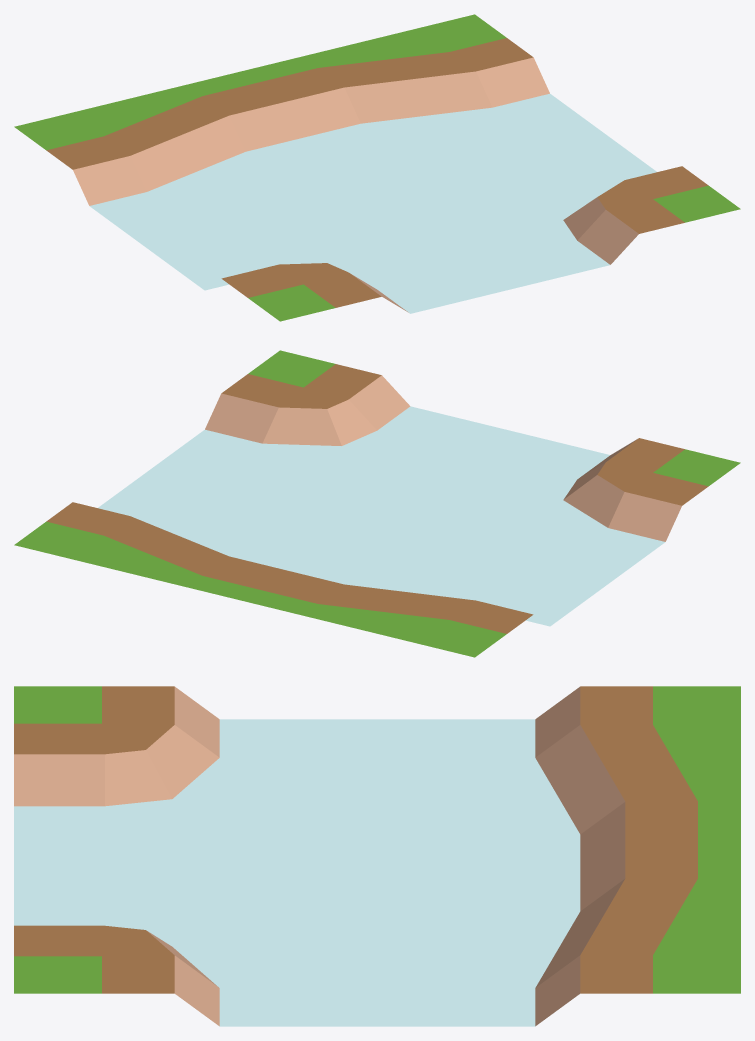
File: ground_riverSplit.glb
The picture shows the model from 3 angles, top to bottom: view 1: azimuth 30°, elevation 25°; view 2: azimuth 150°, elevation 25°; view 3: azimuth 270°, elevation 25°; orthographic projection. The views are drawn at different scales.
Parts seen in each view (by area): view 1: ground_riverSplit; view 2: ground_riverSplit; view 3: ground_riverSplit.
Boxes of the visible parts, <box> form: ground_riverSplit: <box>14,14,740,321</box>; ground_riverSplit: <box>14,350,740,657</box>; ground_riverSplit: <box>14,686,740,1026</box>.
Bounding box in the file's own units: 1 × 0.05 × 1.
